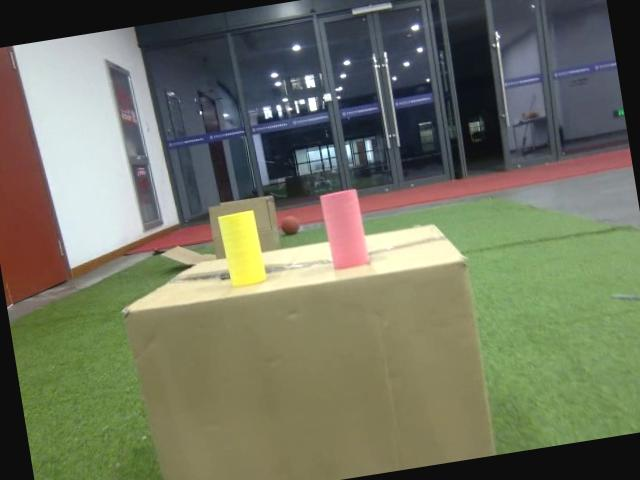red_ball: (278, 212, 300, 238)
red_cylinder: (316, 182, 374, 273)
yellow_cylinder: (214, 204, 270, 292)
